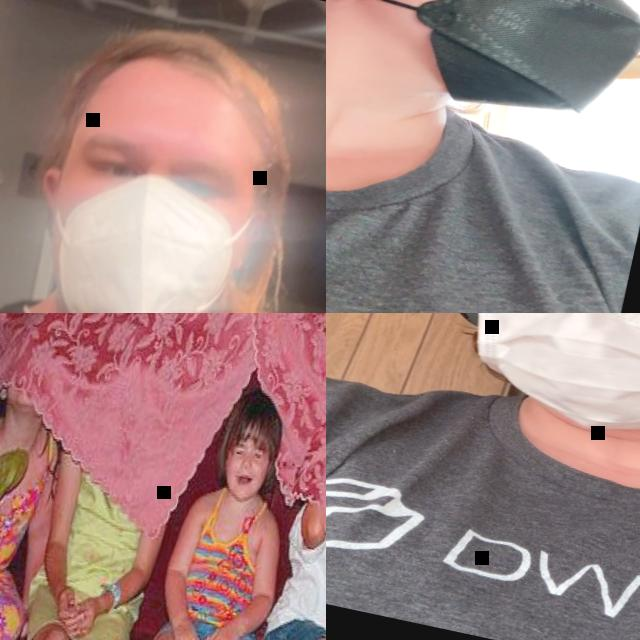Mask: (326, 0, 640, 135), (36, 160, 247, 313), (444, 313, 640, 453)
NO-Hardhat: (86, 18, 286, 150), (225, 393, 283, 452)
NO-Mask: (222, 465, 262, 503), (5, 380, 41, 415)
NO-Safety Vest: (326, 350, 640, 640), (326, 32, 640, 313), (48, 462, 155, 606), (178, 489, 271, 626), (0, 441, 49, 594), (277, 494, 326, 640)
Person: (326, 313, 640, 640), (0, 0, 326, 313), (326, 0, 640, 313), (62, 370, 326, 640), (0, 424, 173, 640), (0, 361, 81, 640), (235, 436, 326, 640)
